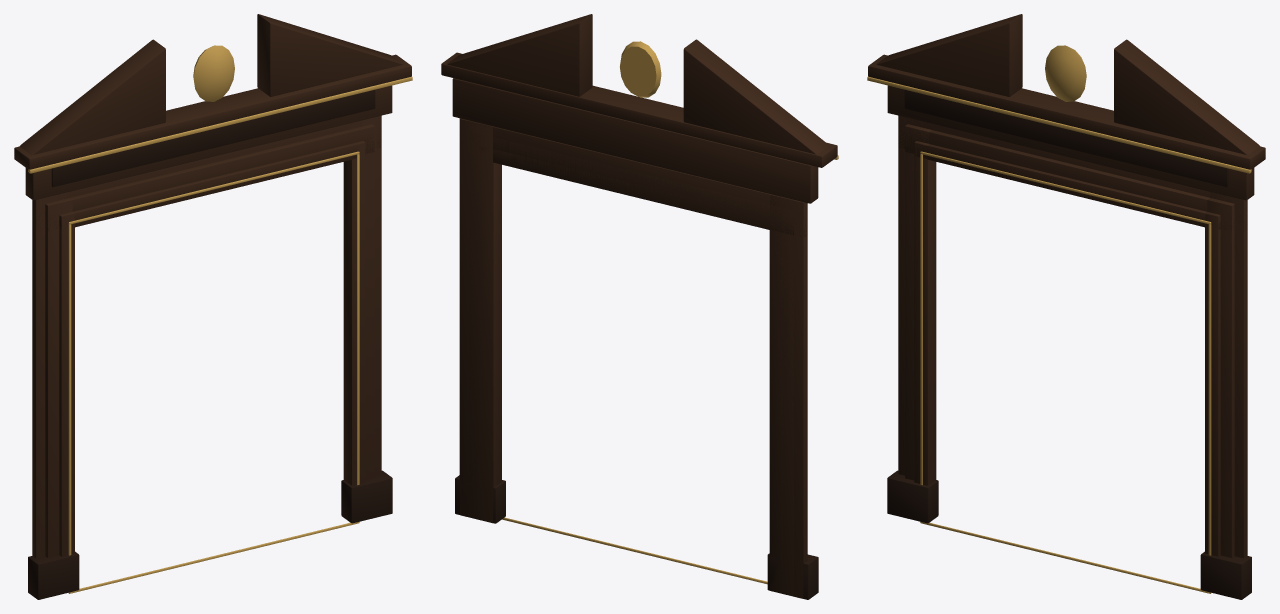
The model's file is door_surround.glb.
3 views of the same model, side by side, from view 1: azimuth 30°, elevation 25°; view 2: azimuth 150°, elevation 25°; view 3: azimuth 330°, elevation 25° (orthographic).
Visible parts, largest first — view 1: door_surround; view 2: door_surround; view 3: door_surround.
Boxes of the visible parts, <box> form: door_surround: <box>14,14,412,599</box>; door_surround: <box>441,14,838,599</box>; door_surround: <box>867,14,1265,599</box>.
Bounding box in the file's own units: 3.32 × 4.36 × 0.25.
